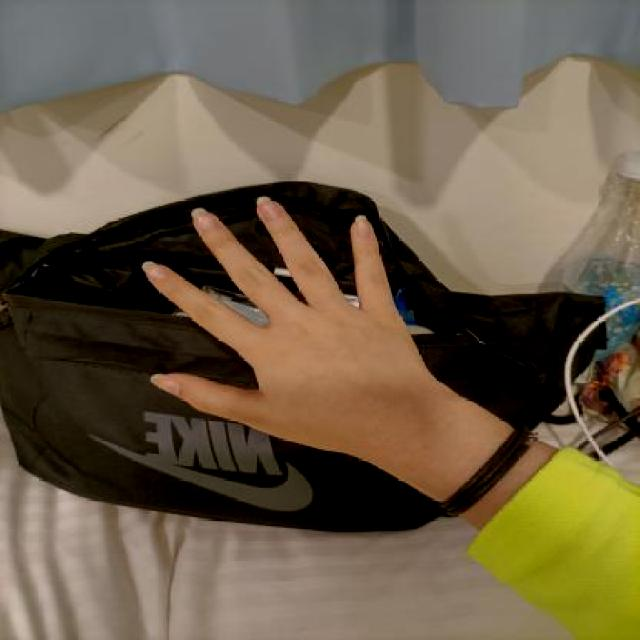no_glove: (128, 189, 444, 469)
